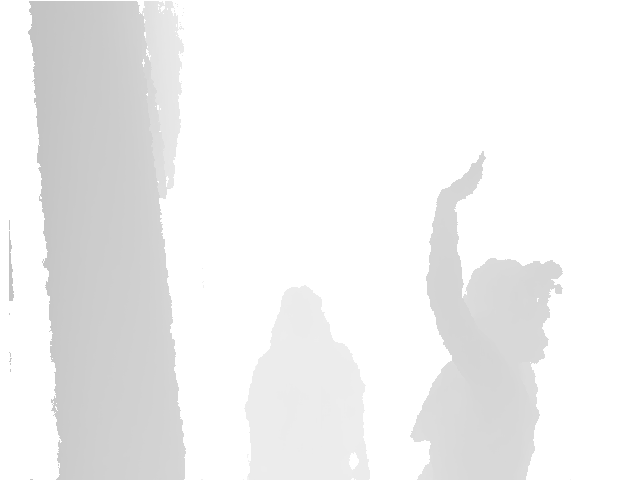hand: (434, 151, 485, 200)
head: (460, 258, 546, 362), (269, 286, 331, 357)
person: (408, 151, 564, 479), (242, 286, 371, 480)
